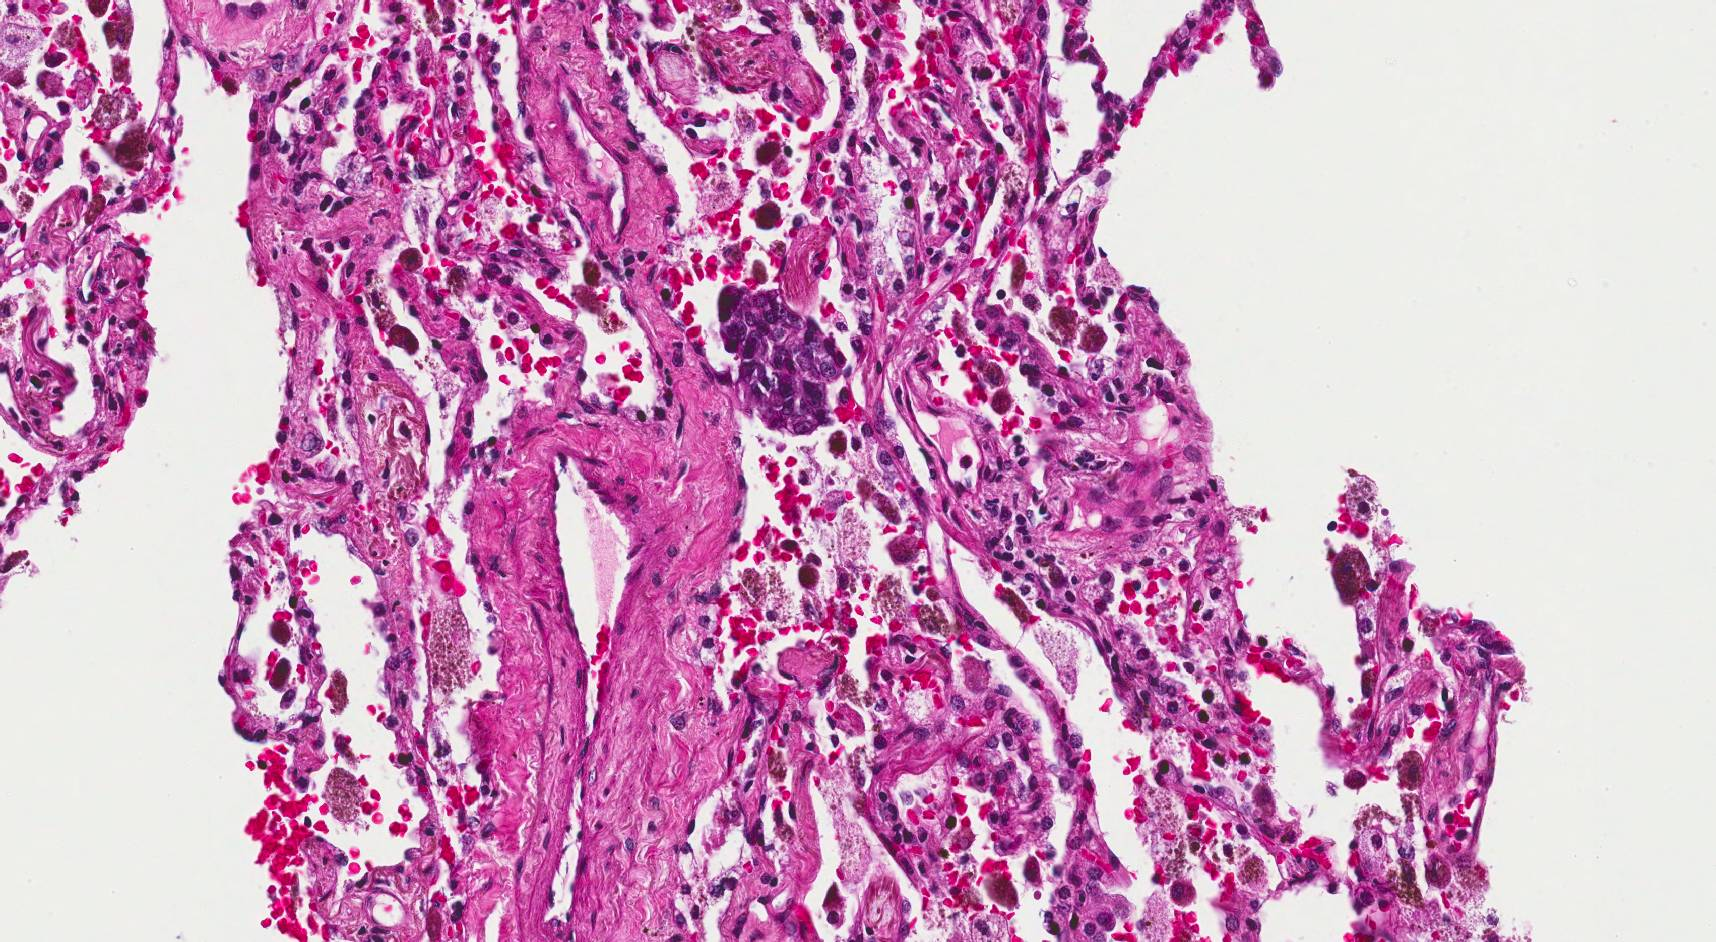stas: (716, 281, 851, 439)
